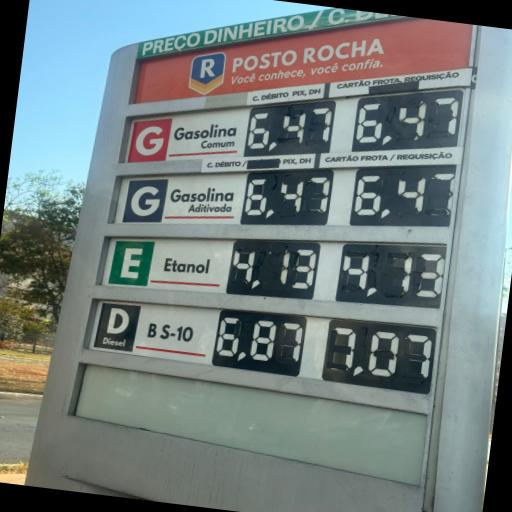ETANOL: (102, 238, 234, 291)
GASOLINA AD: (114, 174, 245, 223)
GASOLINA C: (130, 108, 247, 161)
S10: (91, 300, 219, 362)
placa: (59, 21, 477, 434)
preco: (215, 311, 307, 375), (228, 241, 320, 297), (242, 172, 333, 224), (247, 102, 333, 155)
